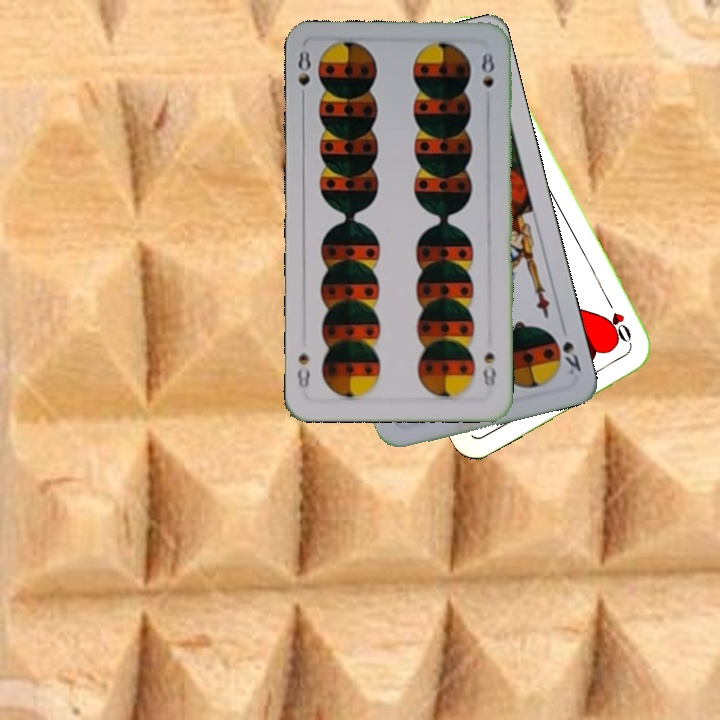HO: (601, 293, 635, 348)
S8: (294, 46, 313, 105), (479, 348, 499, 389)
SK: (557, 320, 584, 377)
